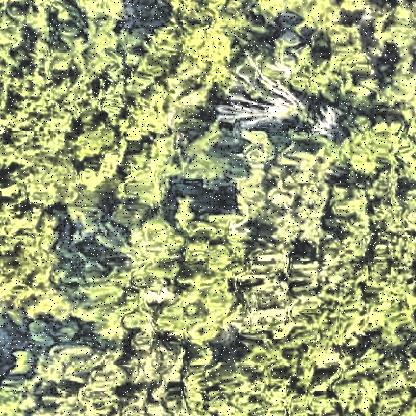tree-top: (115, 205, 240, 347), (233, 129, 326, 246), (360, 199, 416, 339), (159, 5, 245, 83), (33, 348, 127, 416), (288, 24, 372, 100), (2, 203, 60, 313), (331, 111, 411, 181), (333, 359, 416, 416), (116, 140, 174, 210), (370, 1, 416, 55), (376, 59, 416, 119), (242, 1, 318, 21), (70, 1, 136, 23)
